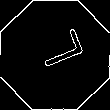L_W: (26, 31, 84, 79)
